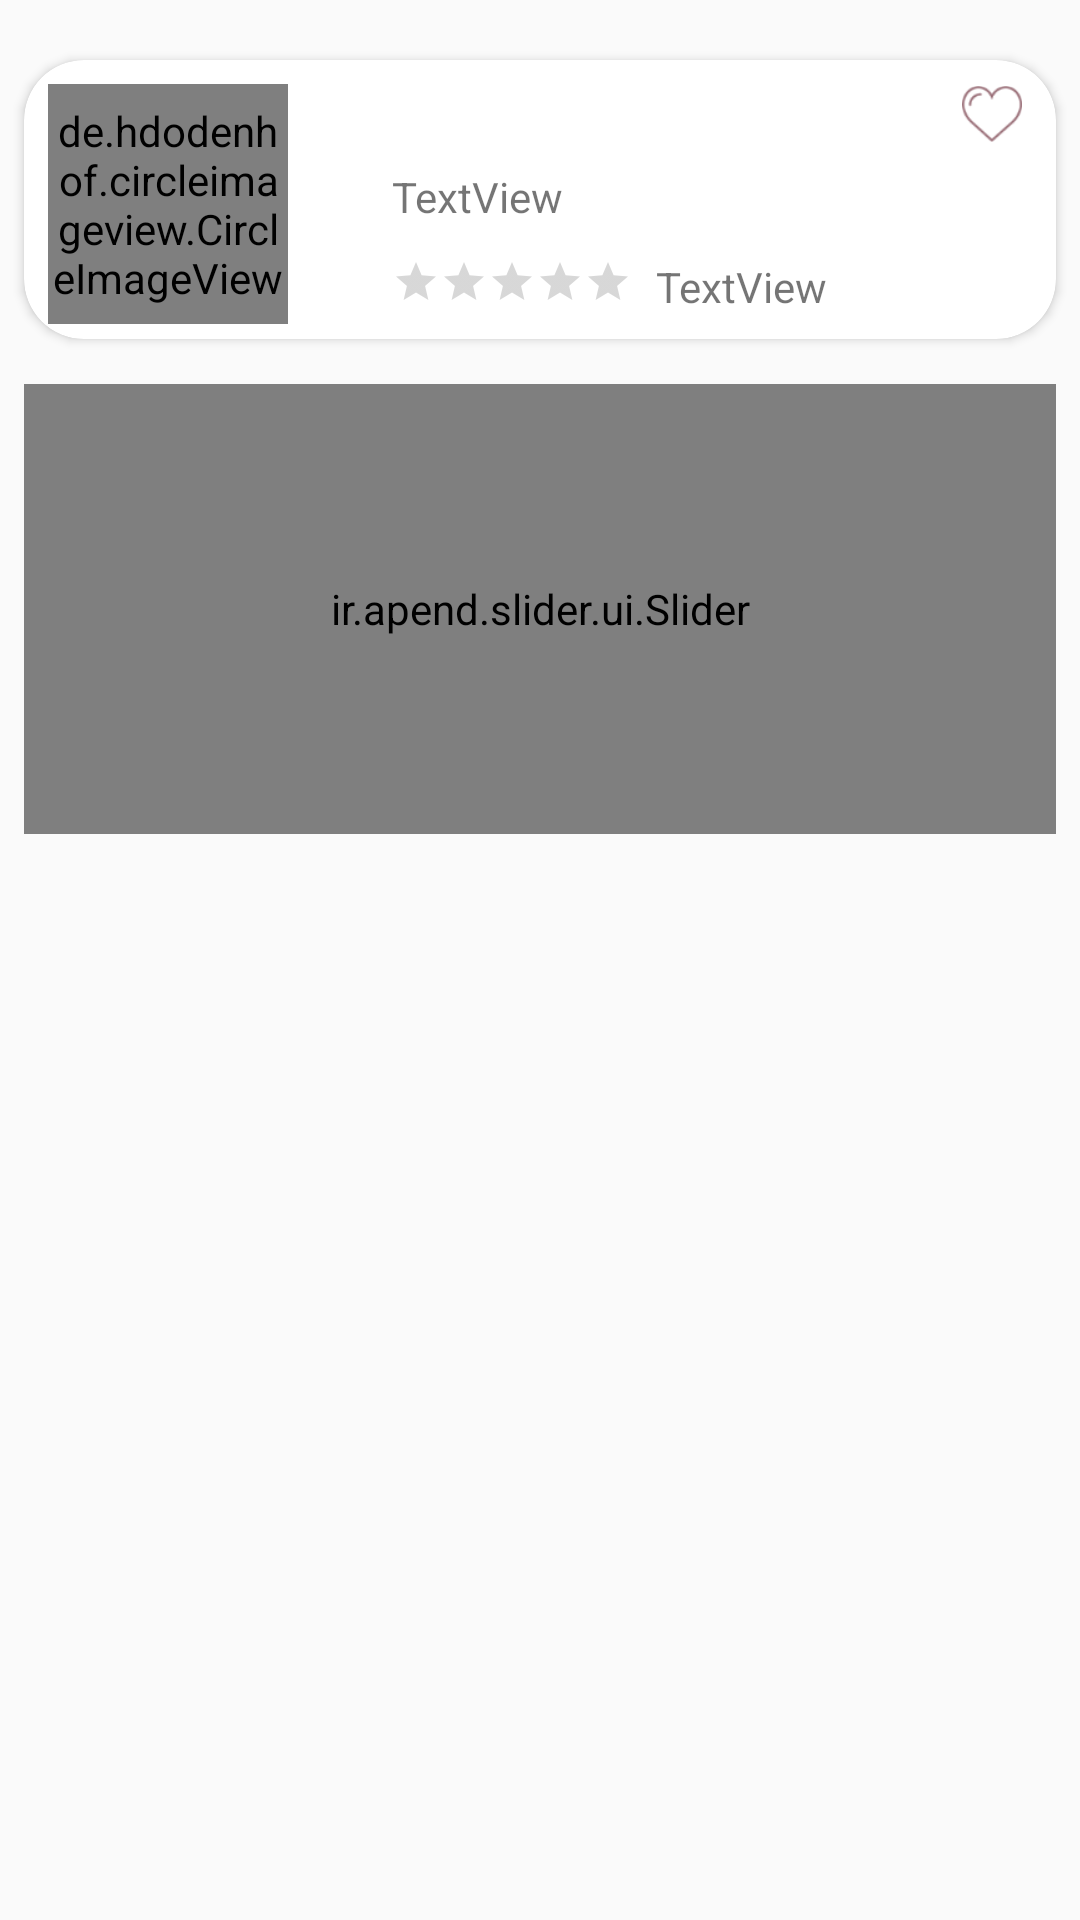

Point at icon controls on the screen. Image size 1080*1920, points as (x,y).
fav: (992,114)
